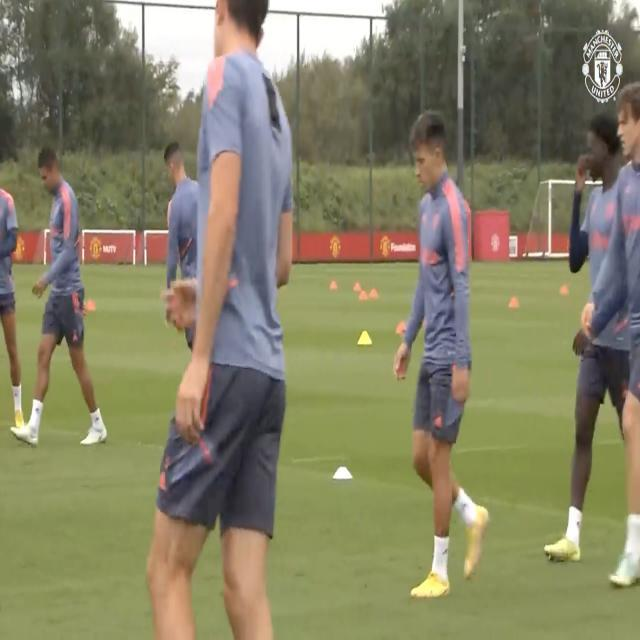Adidas: (434, 411, 444, 428)
